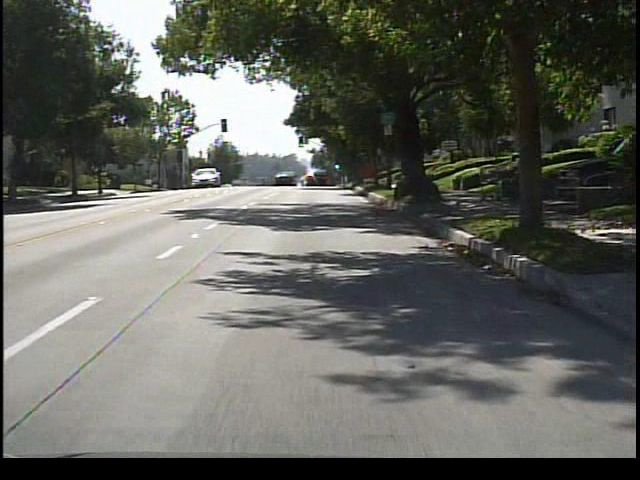person: (505, 147, 533, 201)
